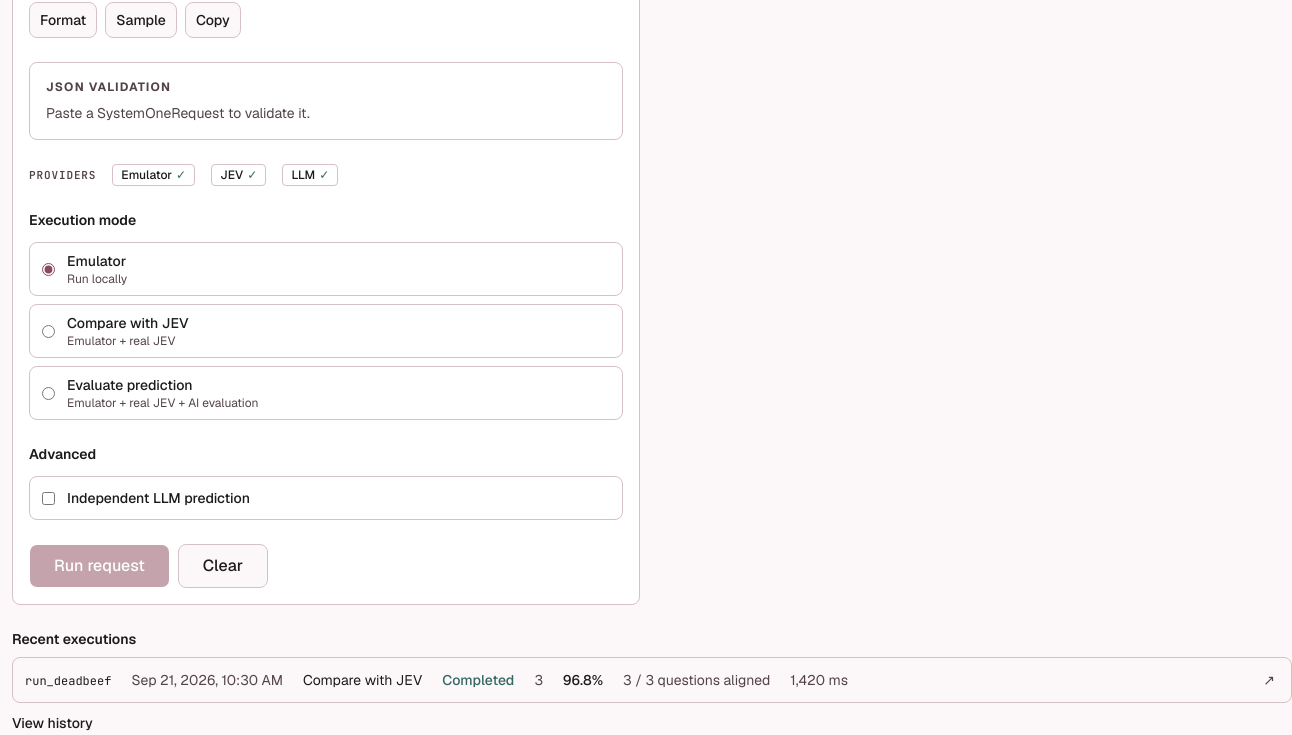
PrincipalView — P45 hydration landings set the session case (T1.2) › does NOT set the session case when the hydration detail GET rejects
This screenshot has width=1292, height=735.
(page scrolled)
Click the button with aria-label "Load execution run_deadbeef — Compare with JEV, Completed": (630, 680) left=13, top=660, right=1247, bottom=700
(page scrolled)
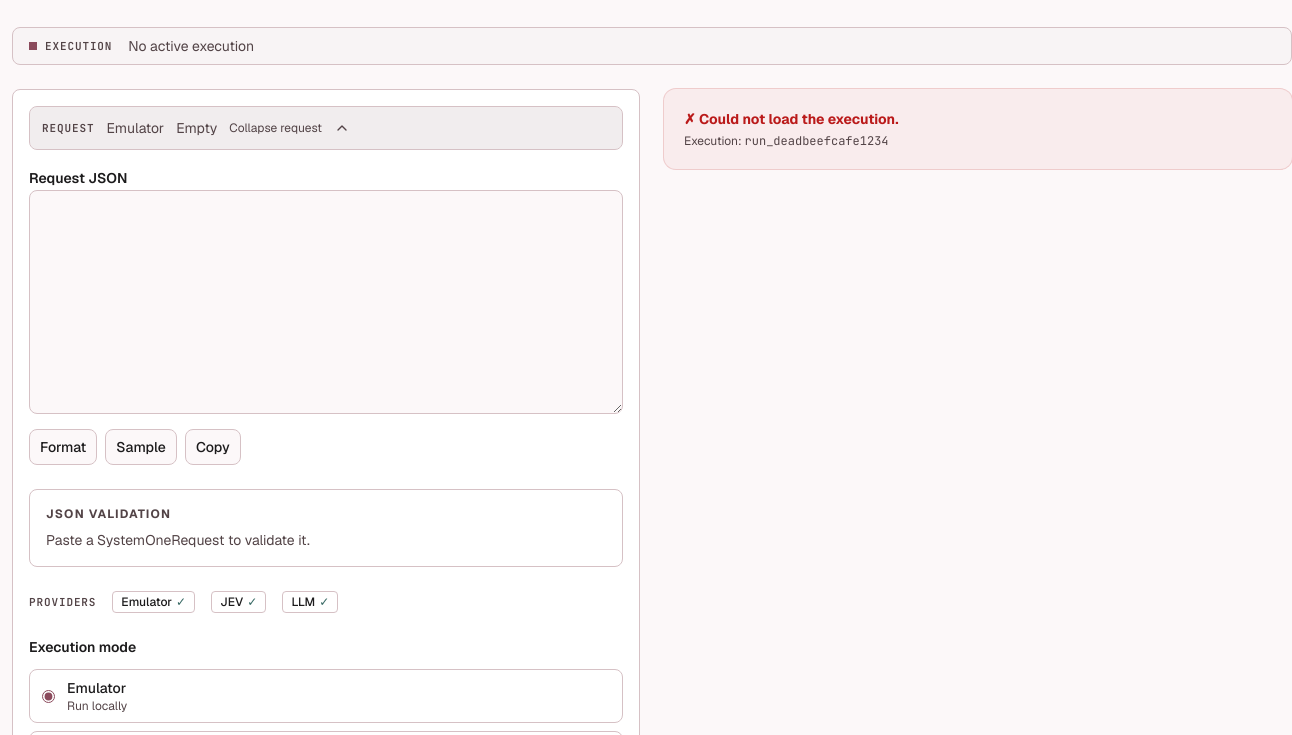
Expected: the text "✗ Could not load the execution." is shown, left=684, top=110, right=898, bottom=128
